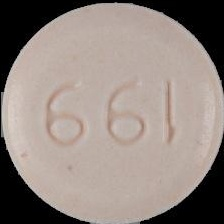0093-0199: (0, 0, 224, 224)
